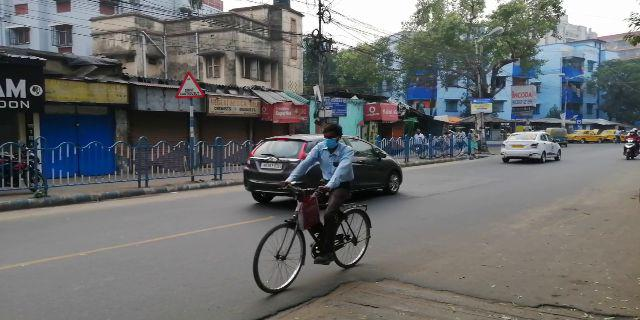Car: (245, 135, 401, 200), (500, 134, 562, 161)
Cycle: (250, 135, 378, 295)
Motorbike: (621, 127, 638, 163)
